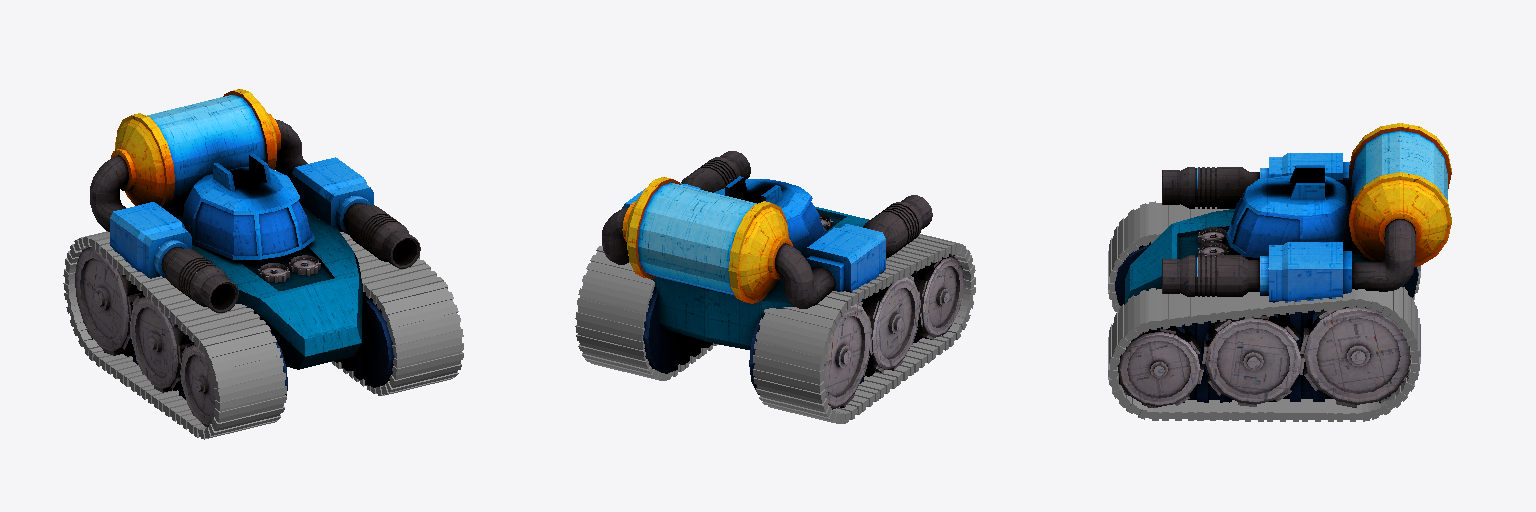
3 views of the same model, side by side, from view 1: azimuth 30°, elevation 25°; view 2: azimuth 150°, elevation 25°; view 3: azimuth 270°, elevation 25° (orthographic).
Parts seen in each view (by area): view 1: Object001, Box042, Object004, Object003, Object002; view 2: Object001, Box042, Object003, Object004, Object002; view 3: Object001, Box042, Object004, Object003, Object002.
Part boxes in pixels (left/top/right/bottom): Object001: left=90, top=89, right=420, bottom=399; Box042: left=63, top=231, right=463, bottom=439; Object004: left=75, top=247, right=142, bottom=355; Object003: left=129, top=294, right=192, bottom=392; Object002: left=180, top=342, right=216, bottom=427; Object001: left=602, top=151, right=932, bottom=394; Box042: left=575, top=234, right=975, bottom=423; Object003: left=862, top=274, right=920, bottom=372; Object004: left=823, top=302, right=871, bottom=409; Object002: left=913, top=254, right=963, bottom=339; Object001: left=1115, top=123, right=1451, bottom=402; Box042: left=1108, top=201, right=1420, bottom=421; Object004: left=1300, top=306, right=1411, bottom=407; Object003: left=1202, top=315, right=1304, bottom=406; Object002: left=1117, top=326, right=1203, bottom=407.
Size of the model in its own units: 121 by 100 by 147.
2 materials, 1 textured.